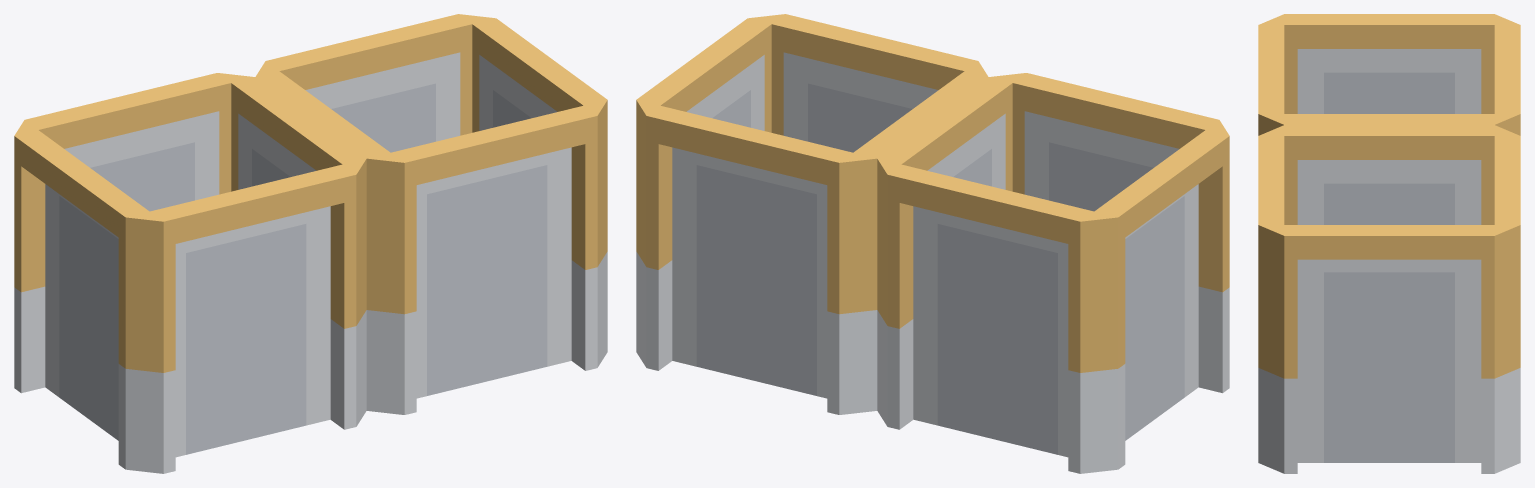
The model's file is module.glb.
3 renders of one model, left to right at view 1: azimuth 30°, elevation 25°; view 2: azimuth 150°, elevation 25°; view 3: azimuth 270°, elevation 25°, orthographic. The views are drawn at different scales.
Parts seen in each view (by area): view 1: module; view 2: module; view 3: module.
Boxes of the visible parts, box(x1,y1,x2,y2) form: module: box(14, 14, 607, 473); module: box(636, 14, 1229, 473); module: box(1258, 14, 1520, 473).
Size of the model in its own units: 12 by 6 by 6.
